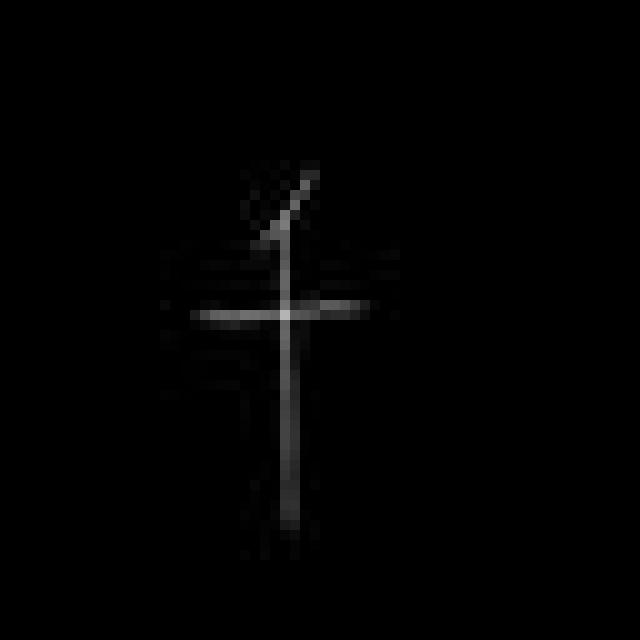1000 -a thousand-: (184, 168, 371, 554)
